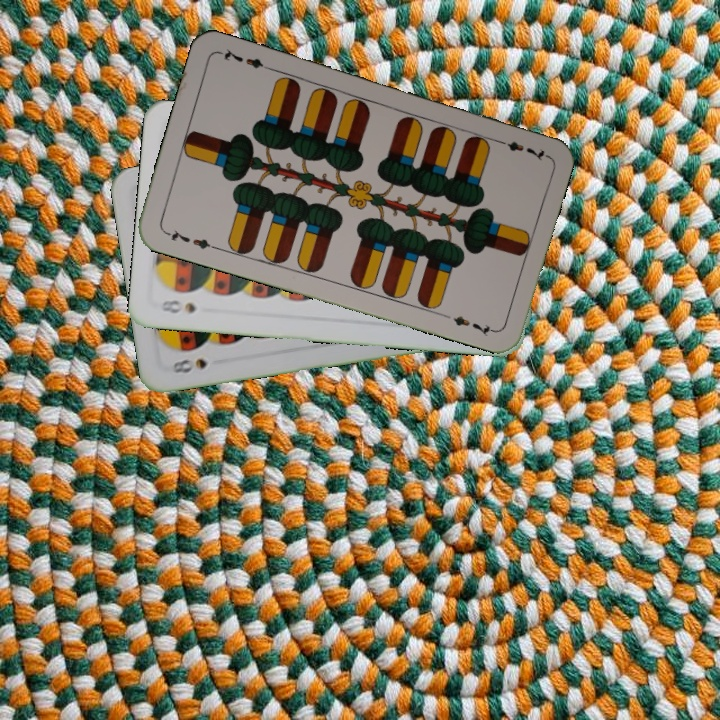E7: (491, 135, 549, 164), (161, 226, 219, 252)
S8: (155, 295, 199, 317), (169, 354, 210, 376)
